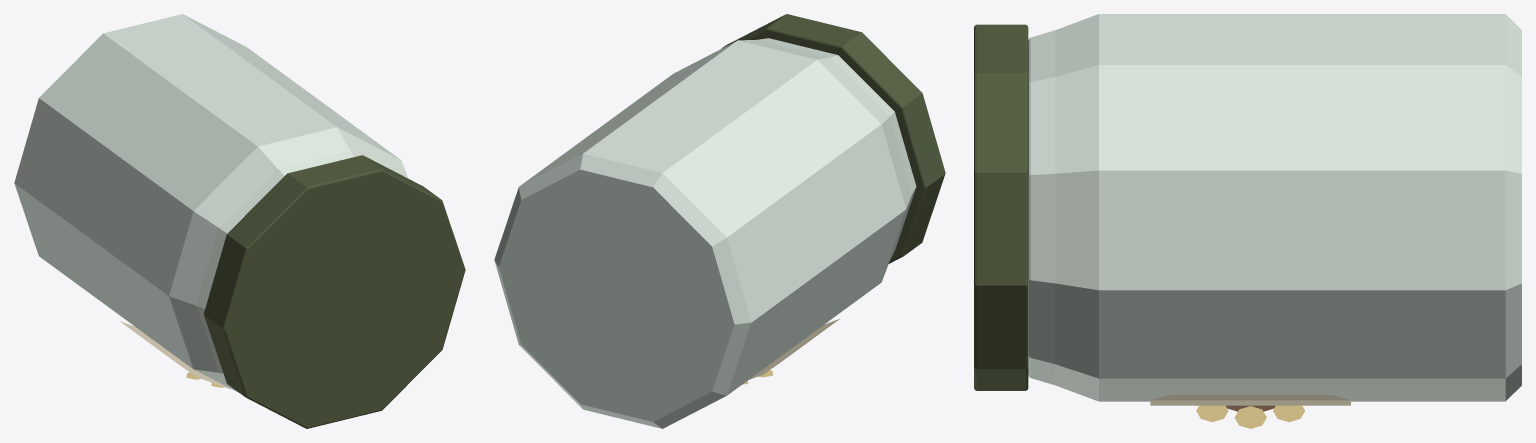
File: sunflower_seed_butter.glb
The picture shows the model from 3 angles, left to right: view 1: azimuth 30°, elevation 25°; view 2: azimuth 150°, elevation 25°; view 3: azimuth 270°, elevation 25°; orthographic projection. The views are drawn at different scales.
Visible parts, largest first — view 1: sunflower_seed_butter; view 2: sunflower_seed_butter; view 3: sunflower_seed_butter.
Boxes of the visible parts, x1,y1,x2,y2 form: sunflower_seed_butter: (14,14,465,428); sunflower_seed_butter: (494,14,945,428); sunflower_seed_butter: (974,14,1521,428).
Size of the model in its own units: 0.072 by 0.0732 by 0.101.
